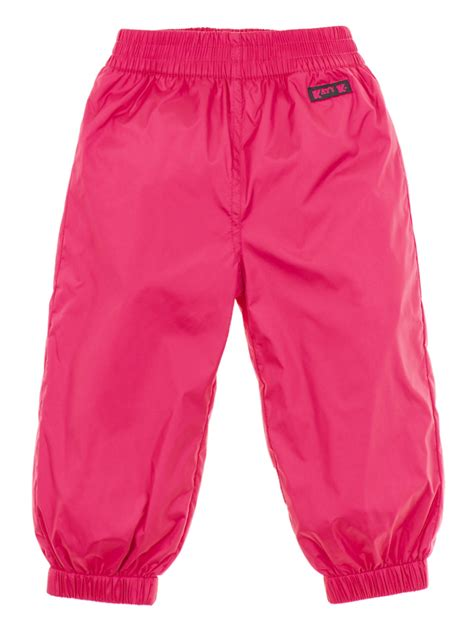nylon: (34, 26, 445, 606)
